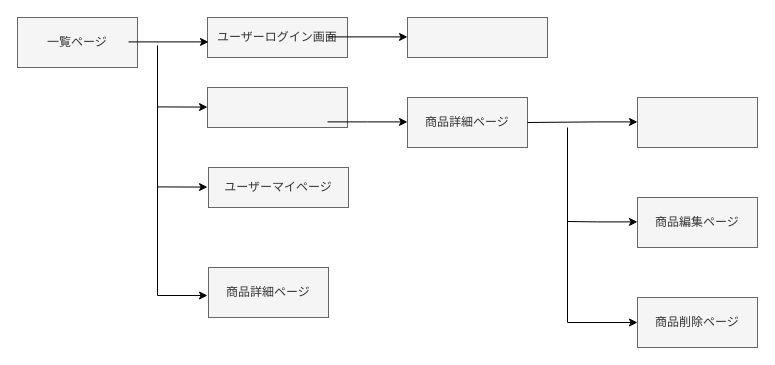
The diagram is 775 pixels wide and 365 high, and some of its shapes have lost their labels. Here are the shapes that lost their labels. From the top down, the centre of each, then its label:
At [477,37]: "商品登録ページ".
At [277,107]: "ユーザー新規登録ページ".
At [697,122]: "在庫管理ページ".
